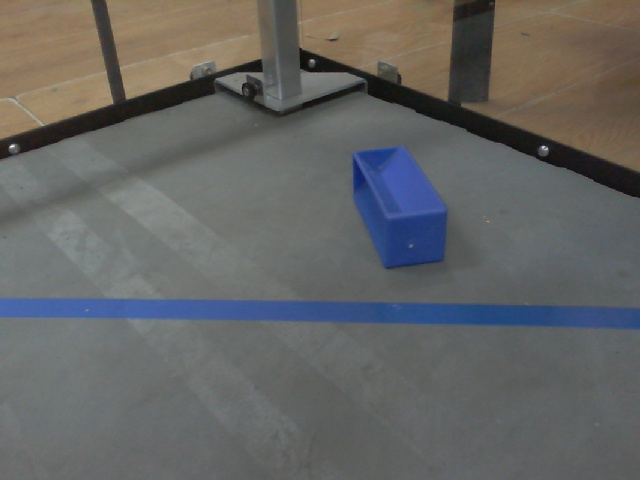BlueSample: (348, 145, 451, 271)
